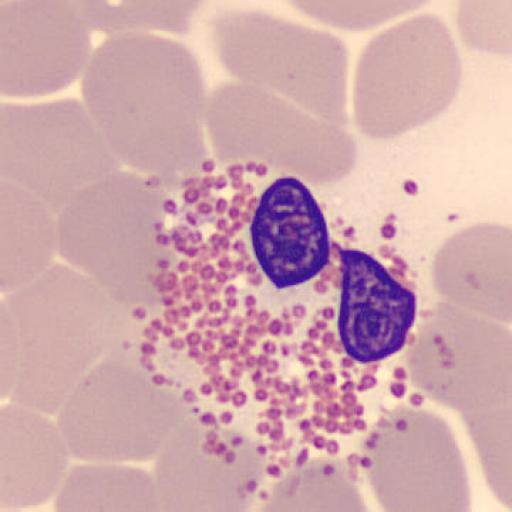RBC: (204, 23, 354, 187), (0, 263, 132, 412), (80, 30, 209, 182), (206, 5, 352, 136), (203, 79, 357, 189), (55, 358, 195, 464), (54, 168, 174, 290), (352, 11, 464, 141), (1, 280, 101, 415), (2, 95, 119, 210), (404, 300, 512, 424), (360, 405, 473, 512), (152, 412, 268, 512), (2, 0, 92, 99), (431, 220, 512, 326), (463, 352, 512, 512), (2, 403, 71, 511), (2, 182, 58, 293), (248, 467, 376, 512), (52, 462, 163, 512), (274, 0, 437, 34), (70, 0, 208, 38), (469, 390, 511, 512), (242, 479, 374, 512), (107, 0, 212, 37), (455, 0, 512, 56)
WBC: (98, 226, 411, 510)
